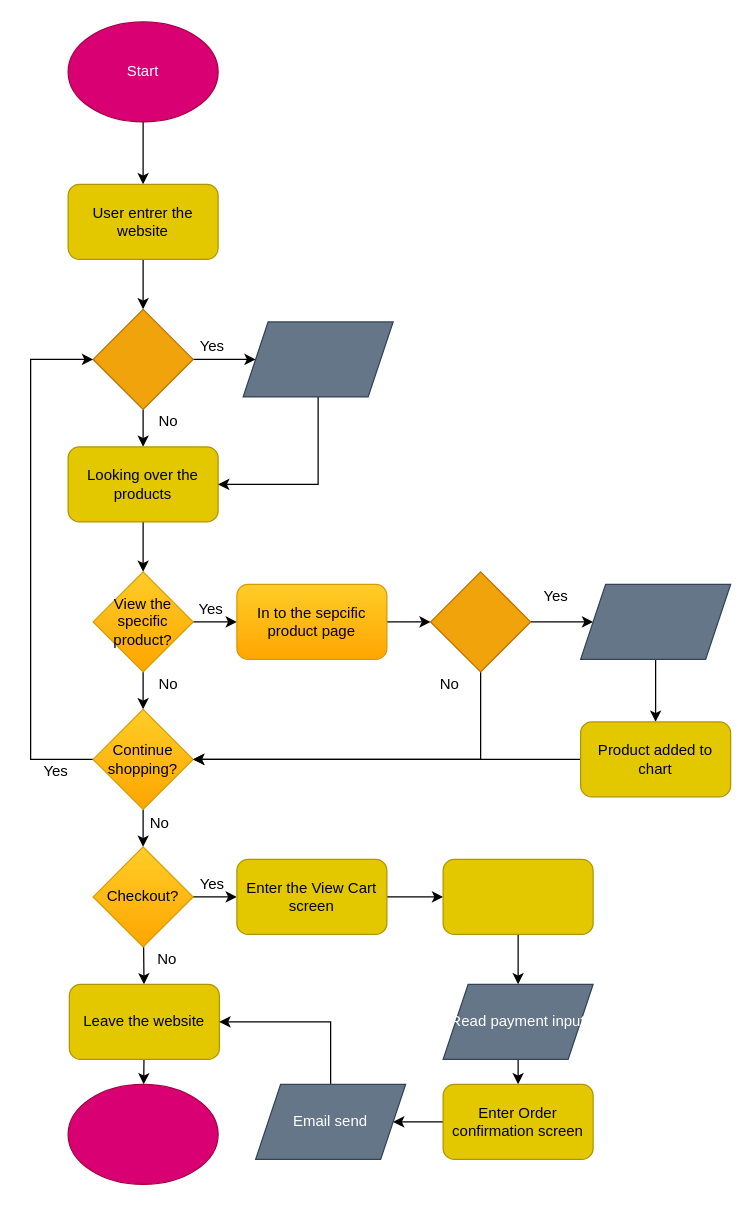
The diagram is 753 pixels wide and 1206 high, and some of its shapes have lost their labels. The shapes that lost their labels are listed below. From the top down, each one's centre as x and y in pixels, then its label:
(x=142, y=358): Search products?
(x=317, y=359): Read search input
(x=480, y=621): Add cart?
(x=655, y=621): Send add to chart confirmation
(x=517, y=896): Enter View Payment screen
(x=142, y=1133): End
